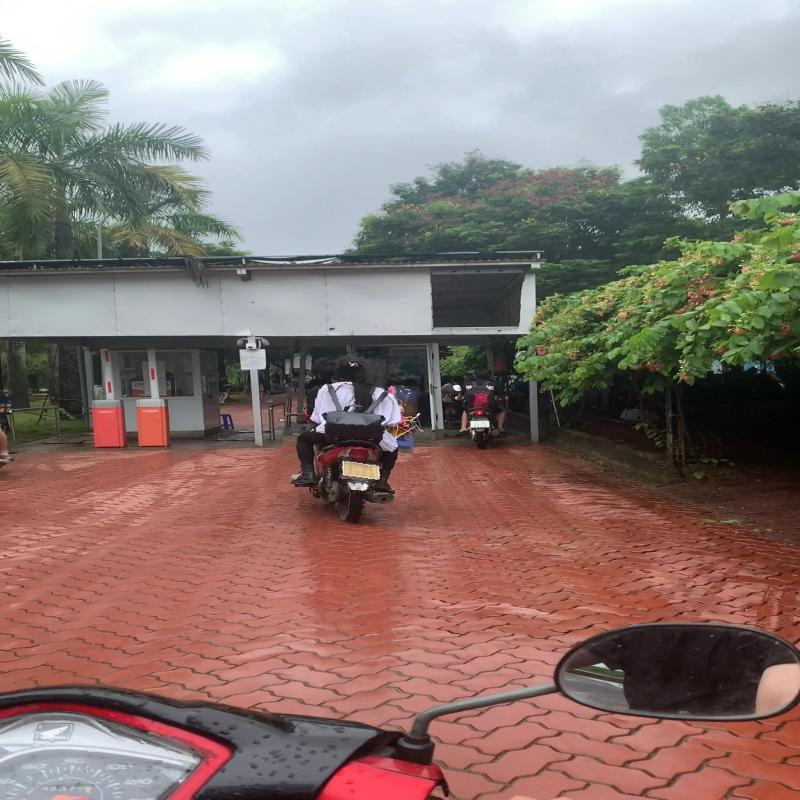licenseplate: (338, 458, 386, 484)
motorcyclist: (278, 349, 419, 527)
nohelmet: (336, 353, 378, 383), (310, 354, 340, 380)
